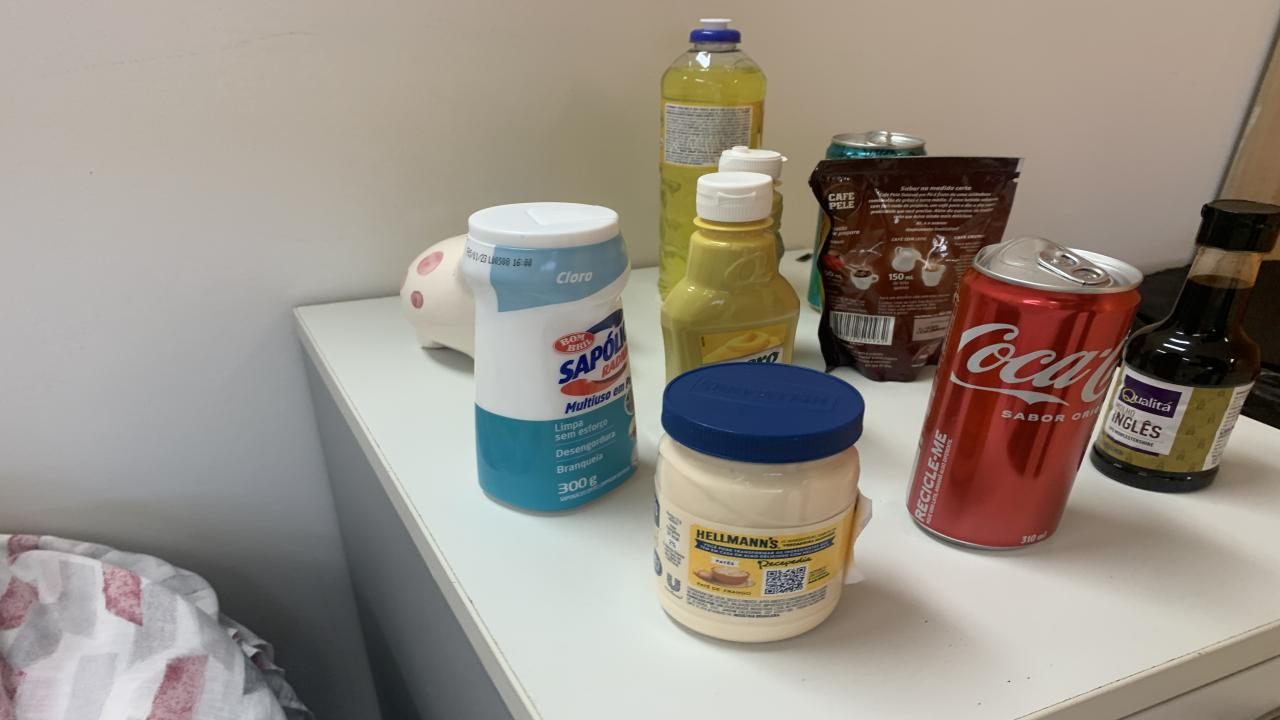Cleaner-Cleanup_Items: (462, 202, 638, 512)
Coffee-Pantry_Items: (810, 156, 1022, 381)
Coke-Drinks: (908, 236, 1142, 549)
Detergent-Cleanup_Items: (658, 19, 765, 296)
English_Sauce-Pantry_Items: (1090, 201, 1280, 491)
Mayonnaise-Pantry_Items: (655, 364, 865, 641)
Mustard-Pantry_Items: (660, 171, 800, 382)
Pig_Safe-Miscellaneous: (400, 234, 475, 356)
Tea-Drinks: (825, 131, 925, 159)
